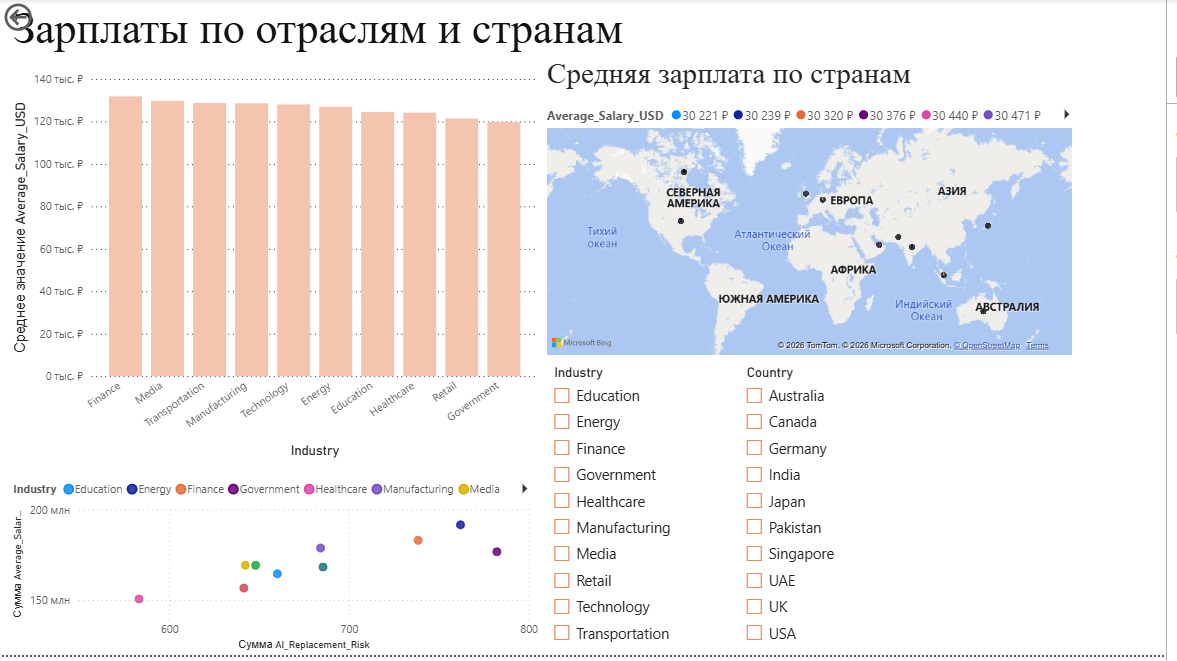

What the dashboard file says about the page in this screenshot:
{"tool":"powerbi","page":{"name":"Зарплата по отраслям и странам","canvas":[1280,720],"ordinal":2},"visuals":[{"type":"textbox","box":[9.6,0,946.8,74.1],"z":0},{"type":"clusteredColumnChart","fields":{"Category":["ai_jobs.Industry"],"Y":["Avg(ai_jobs.Average_Salary_USD)"]},"box":[9.6,74.1,585.9,435],"z":1000},{"type":"actionButton","box":[0,0,100,40],"z":2000},{"type":"map","fields":{"Category":["ai_jobs.Country"],"Series":["ai_jobs.Average_Salary_USD"]},"box":[595.5,107,585.9,289.5],"z":3000},{"type":"textbox","box":[595.5,57.6,422.6,49.4],"z":4000},{"type":"scatterChart","fields":{"X":["Sum(ai_jobs.AI_Replacement_Risk)"],"Y":["Sum(ai_jobs.Average_Salary_USD)"],"Series":["ai_jobs.Industry"]},"box":[10,519,586,201],"z":5000},{"type":"slicer","fields":{"Values":["ai_jobs.Industry"]},"box":[595.5,396.6,211.3,322.5],"z":6000},{"type":"slicer","fields":{"Values":["ai_jobs.Country"]},"box":[806.9,396.6,149.6,322.5],"z":7000}]}

Visuals, with their boxes in screenshot pixels (x1, y1, x2, y2), scaled from the page's 1280x720 canvas onto the 1177x661 screenshot:
textbox: bbox=(9, 0, 879, 68)
clusteredColumnChart - ai_jobs.Industry x Avg(ai_jobs.Average_Salary_USD): bbox=(9, 68, 548, 467)
actionButton: bbox=(0, 0, 92, 37)
map - ai_jobs.Country x ai_jobs.Average_Salary_USD: bbox=(548, 98, 1086, 364)
textbox: bbox=(548, 53, 936, 98)
scatterChart - Sum(ai_jobs.AI_Replacement_Risk) x Sum(ai_jobs.Average_Salary_USD): bbox=(9, 476, 548, 660)
slicer - ai_jobs.Industry: bbox=(548, 364, 742, 660)
slicer - ai_jobs.Country: bbox=(742, 364, 880, 660)
